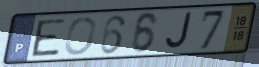6: (129, 11, 162, 55), (99, 13, 129, 56)
7: (199, 9, 226, 51)
E: (30, 17, 68, 58)
J: (163, 11, 193, 52)
O: (62, 15, 98, 57)
